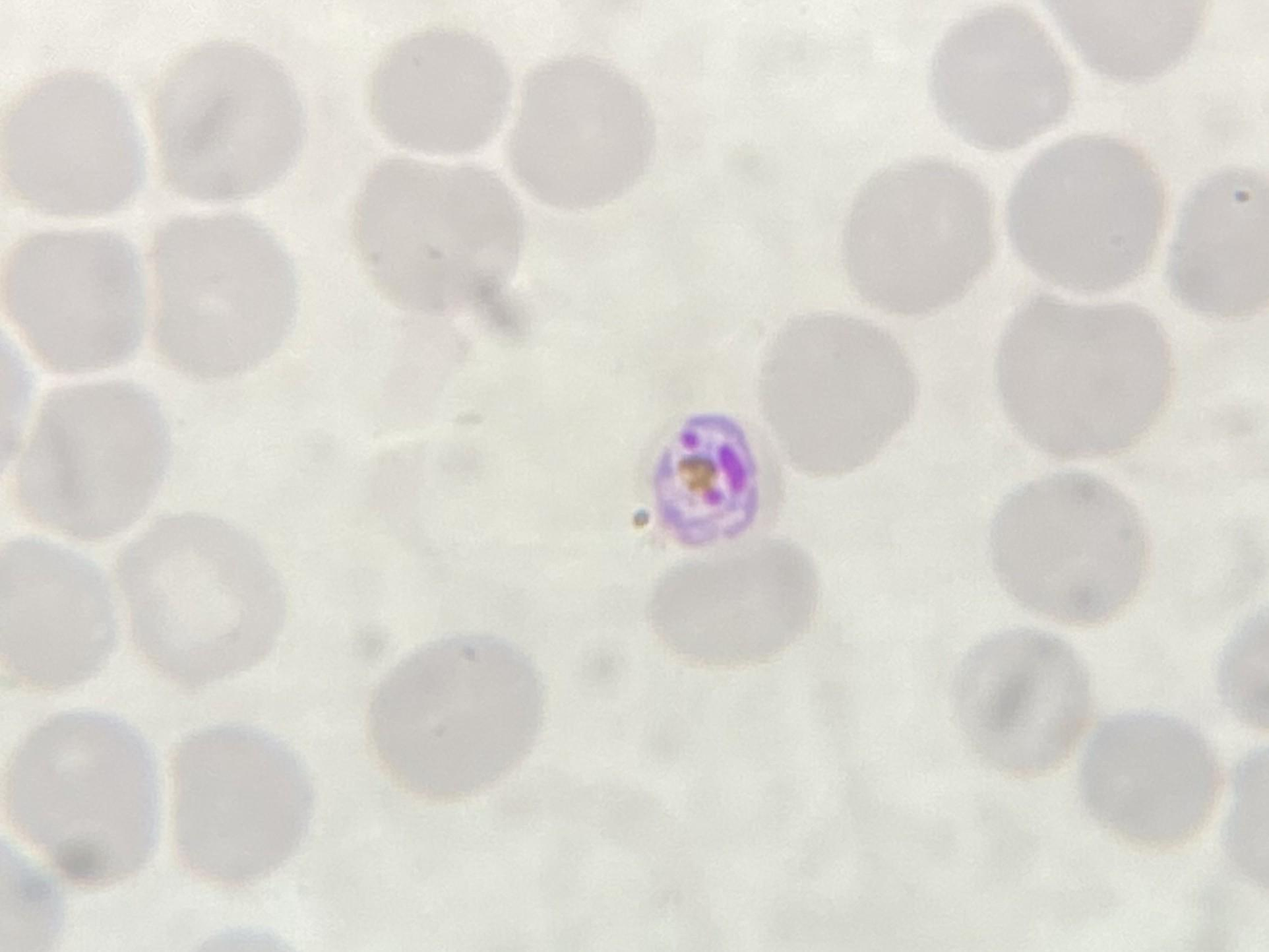Infected: (638, 408, 788, 562)
Uninfected: (992, 293, 1175, 465), (363, 634, 542, 798), (117, 511, 282, 682), (759, 306, 912, 487), (9, 702, 150, 895), (1007, 133, 1166, 302), (350, 155, 521, 308), (152, 38, 306, 205), (152, 214, 300, 387), (842, 152, 993, 317), (2, 225, 149, 387), (983, 476, 1145, 621), (169, 724, 311, 889), (649, 531, 820, 668), (4, 65, 147, 227), (503, 54, 649, 211), (26, 372, 169, 531), (954, 625, 1101, 776), (363, 25, 514, 156), (1079, 707, 1225, 841), (934, 12, 1069, 150), (0, 542, 119, 688), (1172, 172, 1269, 313)
